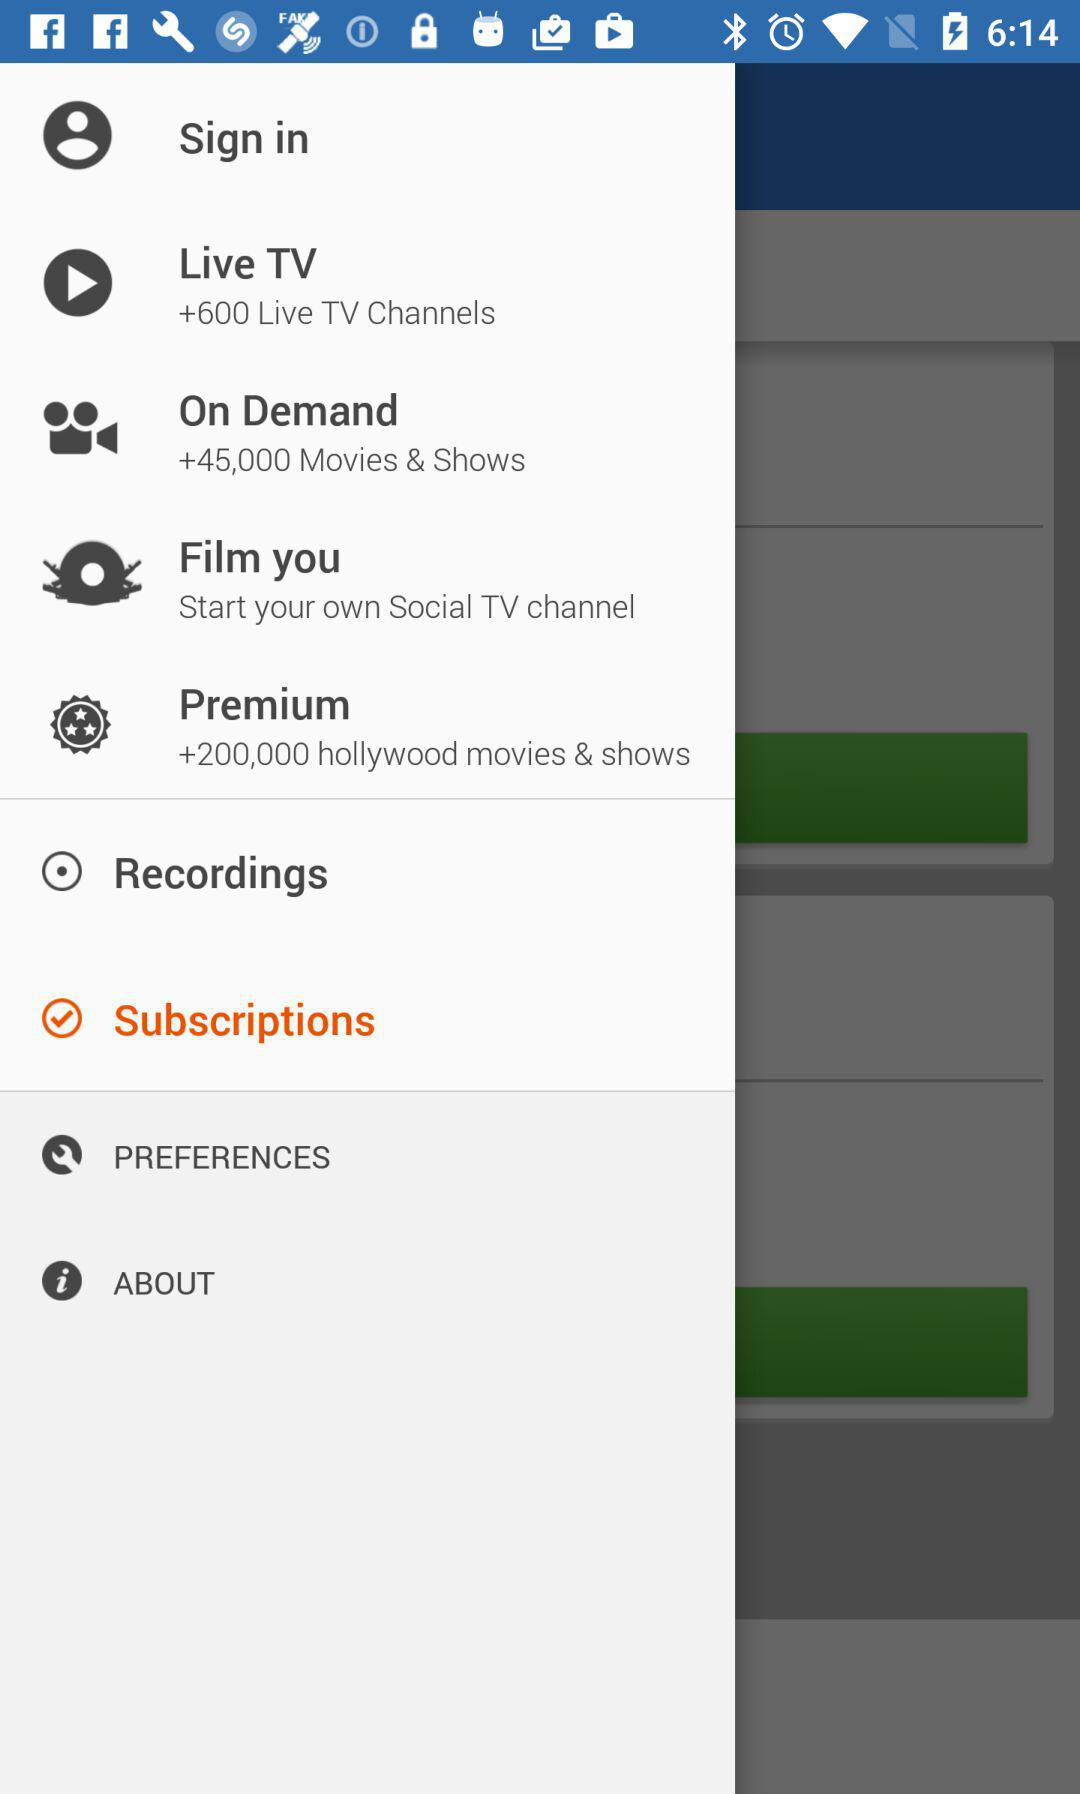CheckedTextView: (42, 997, 375, 1044)
Drawer: (1, 64, 735, 1794)
Icon: (42, 100, 115, 172), (44, 249, 115, 319), (41, 1260, 85, 1302)
Image: (41, 539, 146, 607), (42, 400, 120, 457), (50, 695, 113, 757), (41, 850, 85, 892), (42, 1134, 85, 1176)
Text: (179, 739, 691, 774), (179, 593, 635, 628), (114, 1001, 375, 1044), (179, 443, 523, 474), (115, 853, 329, 900), (178, 299, 497, 328), (176, 390, 401, 429), (179, 539, 341, 583), (181, 686, 351, 721), (179, 120, 310, 165), (115, 1144, 331, 1171), (178, 245, 319, 281), (113, 1270, 217, 1297)
UpperTaskBar: (1, 1, 1080, 64)
